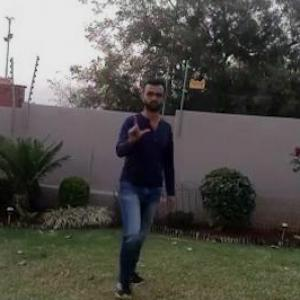land_hand: (126, 106, 152, 143)
